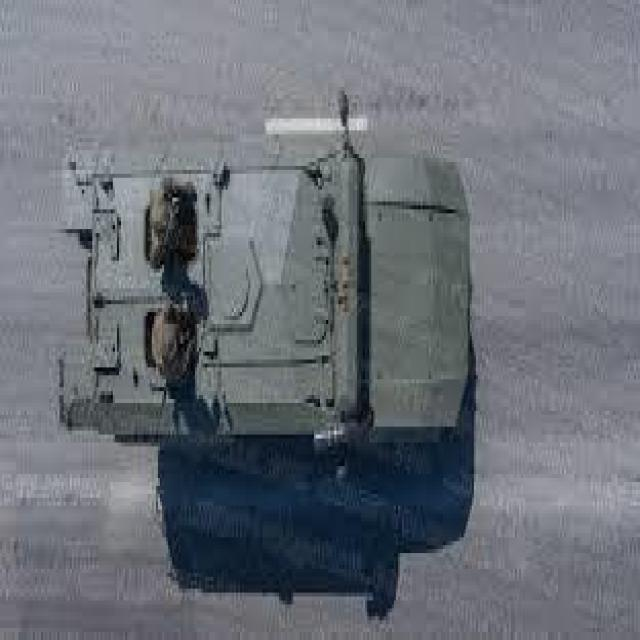Tanks: (50, 103, 483, 474)
